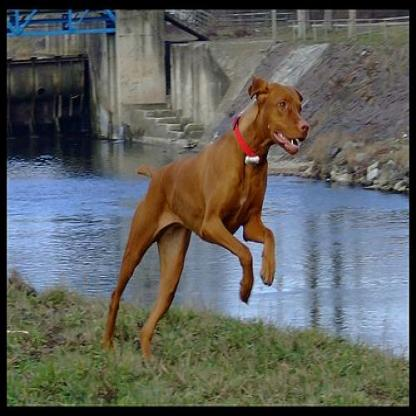vizsla: (102, 71, 310, 361)
